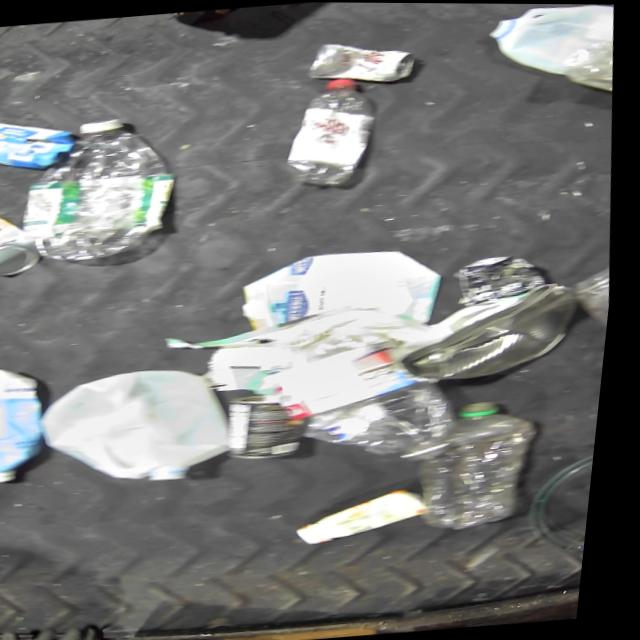can: (399, 279, 589, 386), (302, 35, 422, 89), (230, 390, 313, 462), (457, 251, 553, 307), (0, 208, 50, 280), (590, 3, 614, 17)
milk_jug: (42, 361, 249, 492), (479, 3, 619, 83), (555, 37, 619, 106)
non_white_jug: (0, 363, 61, 487)
plastic_bottle: (16, 113, 189, 266), (299, 324, 470, 471), (418, 395, 554, 532), (277, 74, 383, 191)
